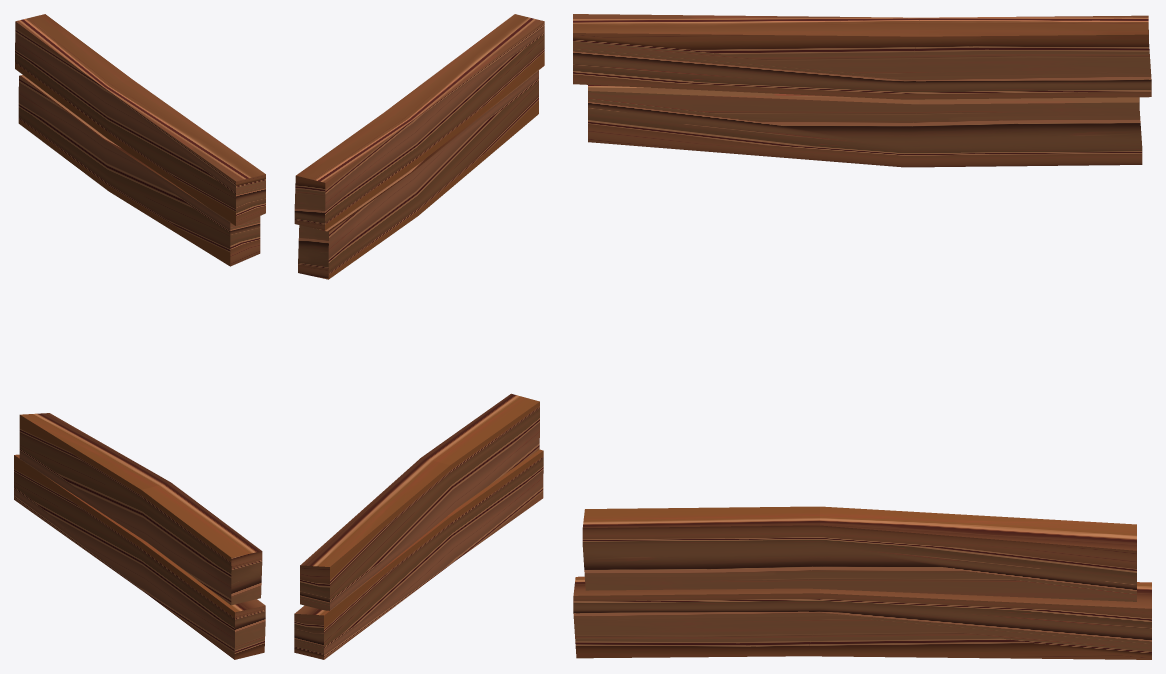
The model's file is MSH_Piso1_Ventana06.FBX.
3 views of the same model, side by side, from view 1: azimuth 30°, elevation 25°; view 2: azimuth 150°, elevation 25°; view 3: azimuth 270°, elevation 25° (orthographic). The views are drawn at different scales.
Parts seen in each view (by area): view 1: MSH_Piso1_Ventana06; view 2: MSH_Piso1_Ventana06; view 3: MSH_Piso1_Ventana06.
Boxes of the visible parts, left/top/right/bottom form: MSH_Piso1_Ventana06: left=14, top=14, right=265, bottom=659; MSH_Piso1_Ventana06: left=294, top=14, right=544, bottom=659; MSH_Piso1_Ventana06: left=573, top=14, right=1151, bottom=659.
Bounding box in the file's own units: 6.54 × 100 × 84.03.
1 material, 1 textured.
